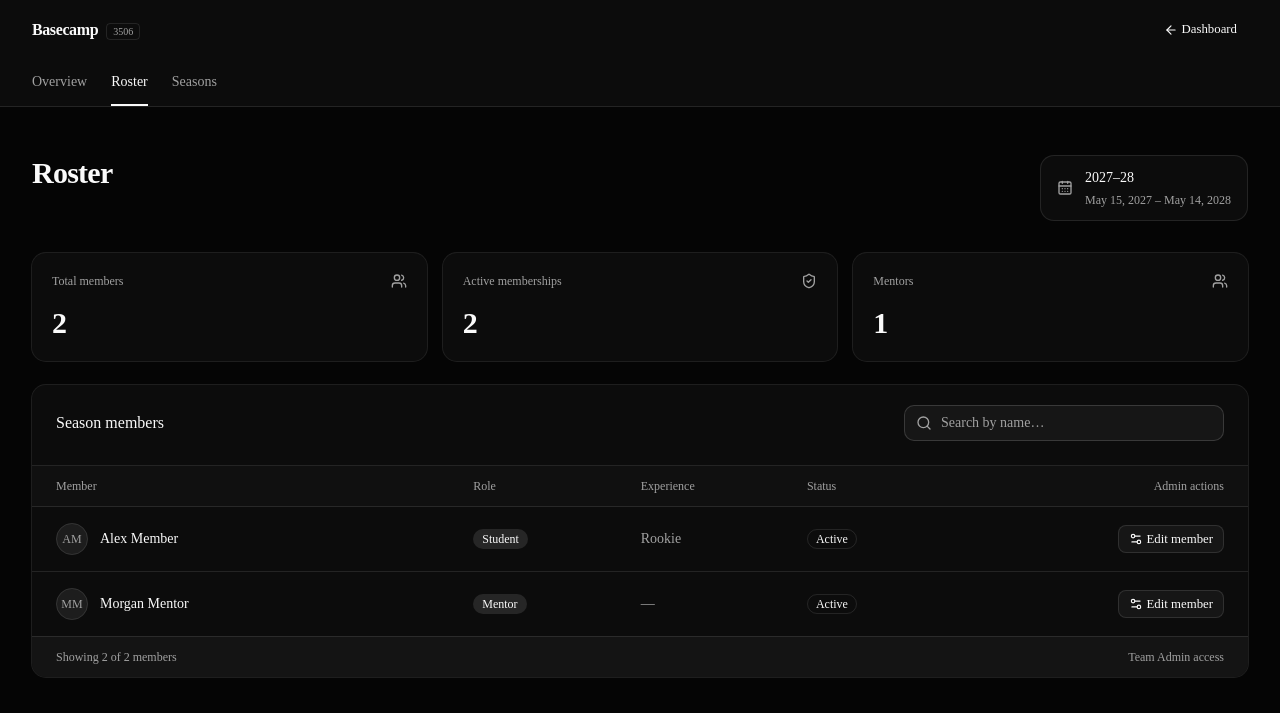
clears search without losing an open member editor or its draft
Click the button with aria-label "Edit member Alex Member": (1171, 539) top-left (1118, 525), bottom-right (1224, 553)
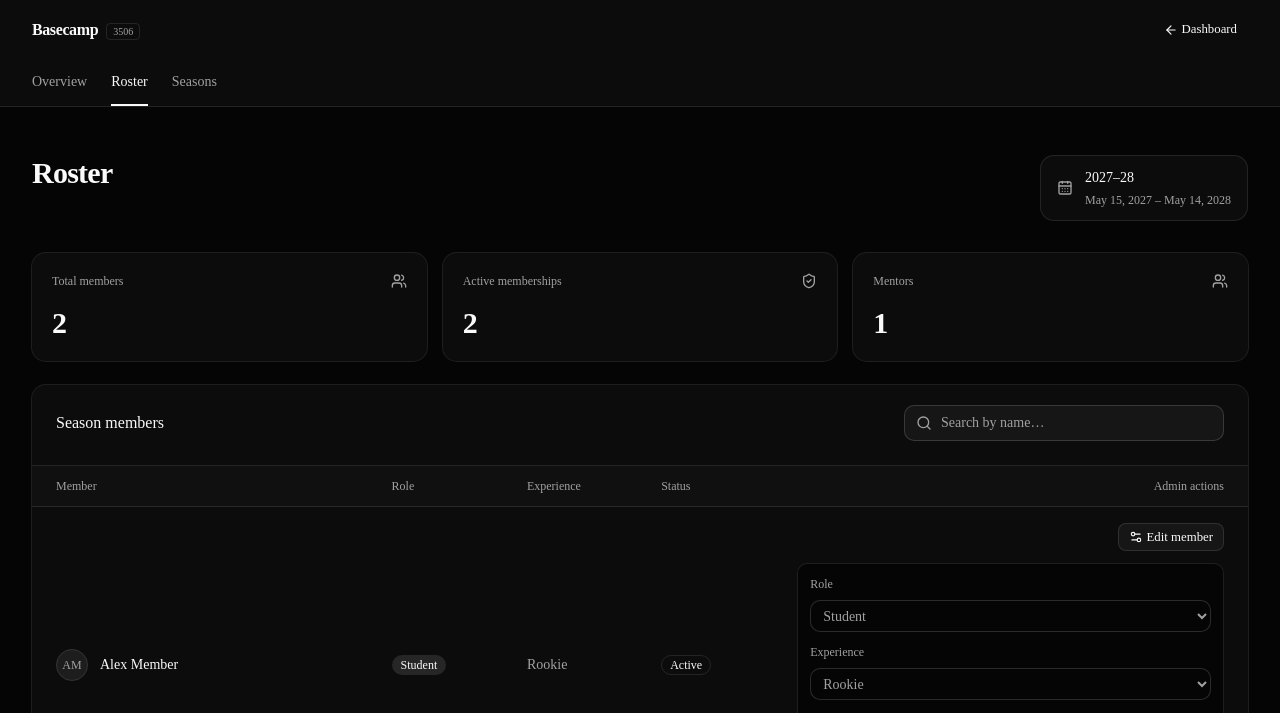
Select "Student Leader" in the dropdown named "Role for Alex Member": (1011, 616) top-left (810, 600), bottom-right (1211, 632)
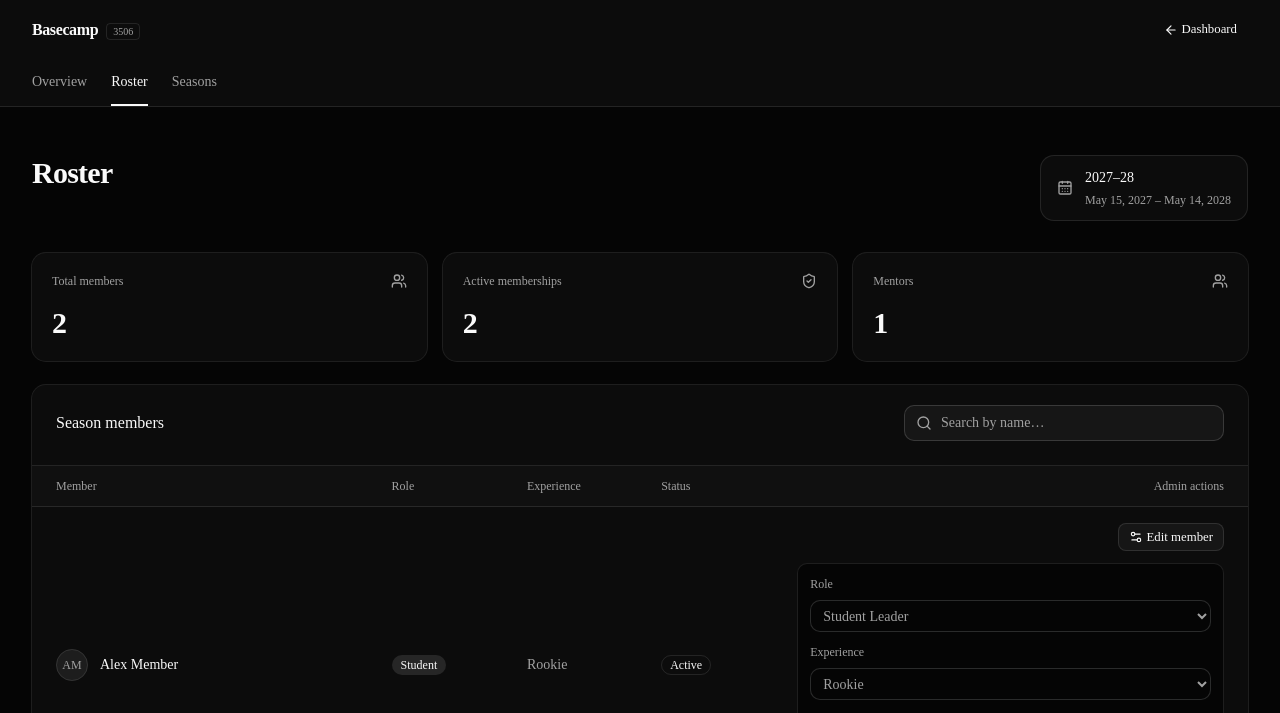
In the search field: (1064, 423) top-left (904, 405), bottom-right (1224, 441), type "Morgan"
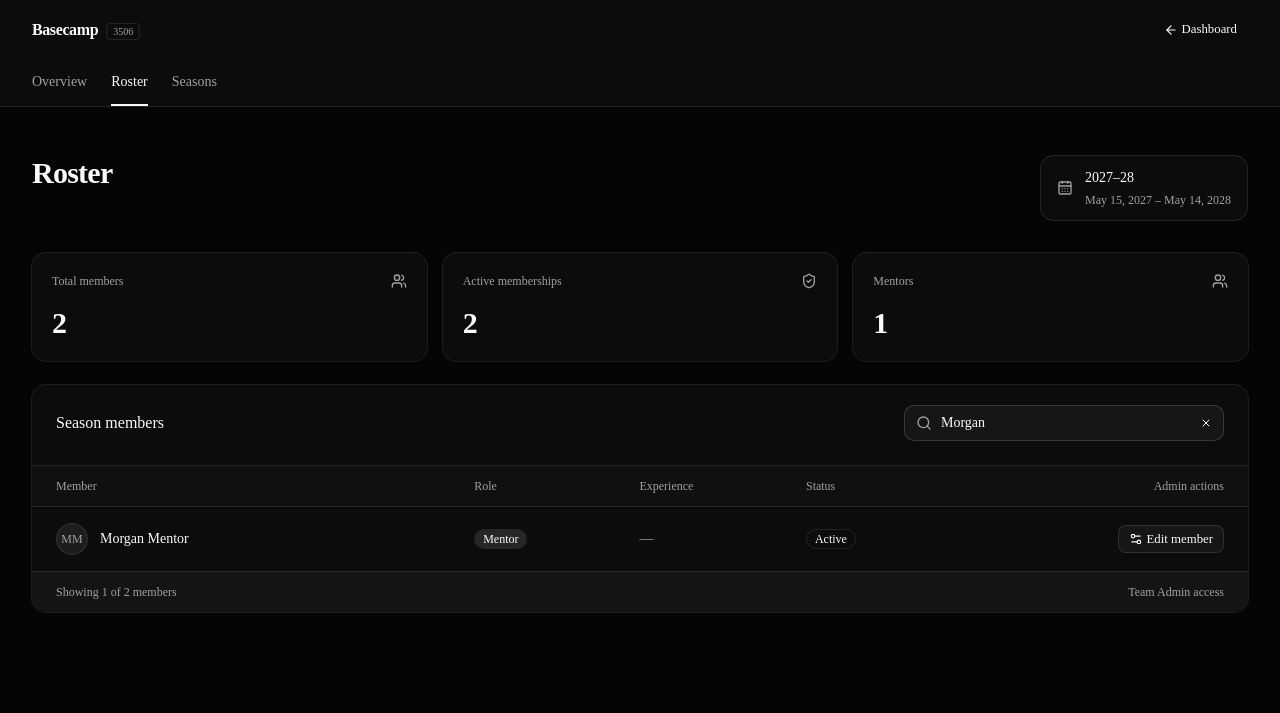
Check: the message reads "Showing 1 of 2 members", box top-left (56, 584), bottom-right (177, 600)
Click the button named "Clear search": (1206, 423) top-left (1194, 411), bottom-right (1218, 435)
(page scrolled)
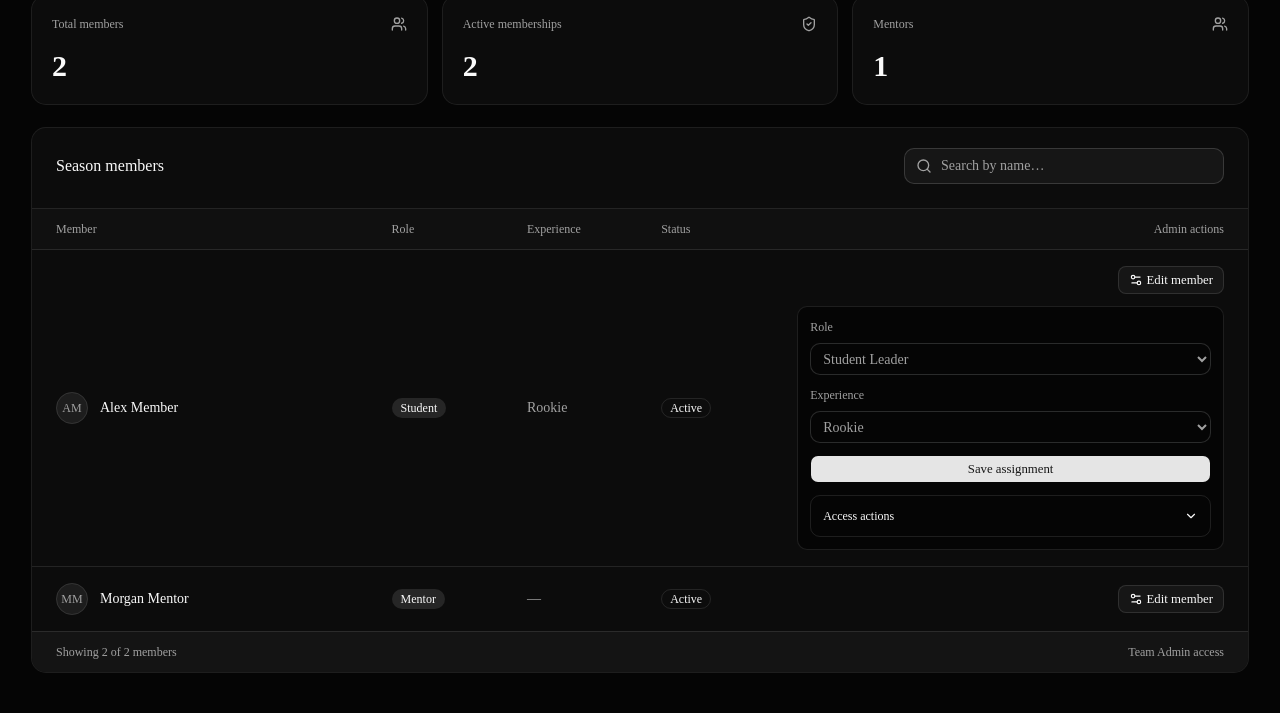
Check: the button with aria-label "Edit member Alex Member" is expanded, box top-left (1118, 266), bottom-right (1224, 294)
Check: the message reads "Showing 2 of 2 members", box top-left (56, 644), bottom-right (177, 660)
